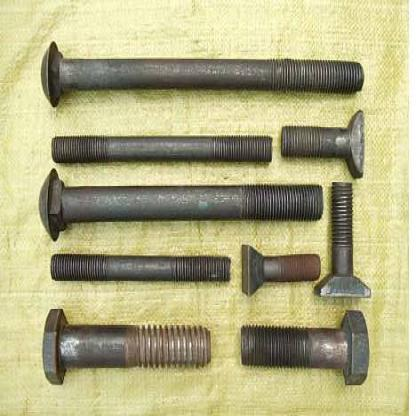FOD: (38, 36, 366, 112), (35, 168, 325, 241), (42, 302, 212, 387), (237, 307, 371, 387), (312, 179, 372, 301), (280, 107, 366, 177), (239, 244, 321, 299)
